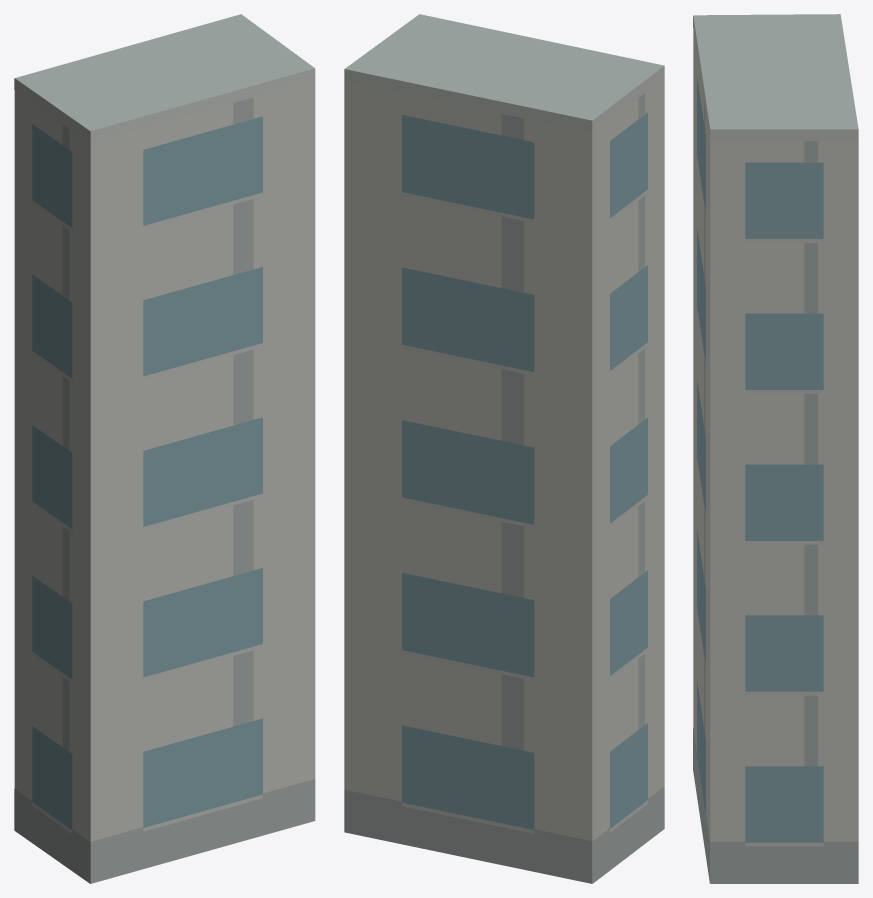
The model's file is survey-upis-32632486.glb.
3 renders of one model, left to right at view 1: azimuth 30°, elevation 25°; view 2: azimuth 150°, elevation 25°; view 3: azimuth 270°, elevation 25°, orthographic.
Visible parts, largest first — view 1: survey-upis-32632486.tmp; view 2: survey-upis-32632486.tmp; view 3: survey-upis-32632486.tmp.
Part boxes in pixels (box(x1,y1,x2,y2)): survey-upis-32632486.tmp: box(14, 14, 315, 883); survey-upis-32632486.tmp: box(344, 14, 664, 883); survey-upis-32632486.tmp: box(693, 14, 858, 883).
Size of the model in its own units: 5.01 by 15.25 by 3.04.
